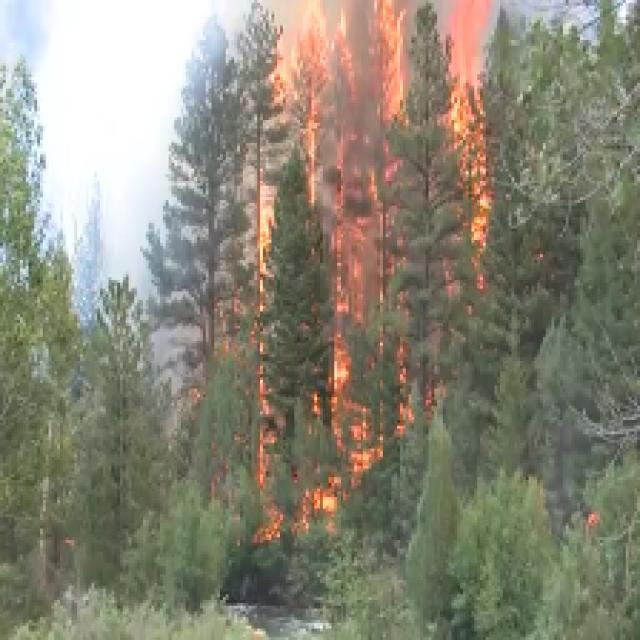Smoke: (50, 8, 172, 230)
